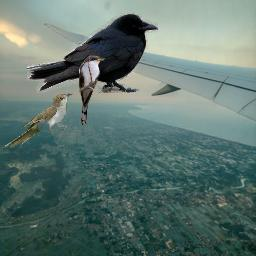Crow: (27, 13, 158, 93)
Cuckoo: (4, 93, 73, 148), (78, 55, 105, 125)
